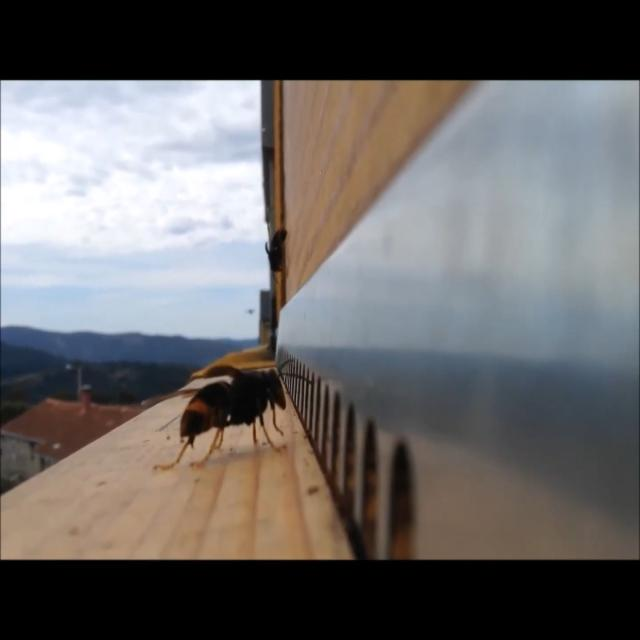Hornets: (142, 356, 314, 466), (263, 224, 289, 281)
